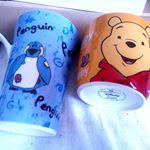cups: (1, 6, 83, 140), (72, 8, 150, 115)
